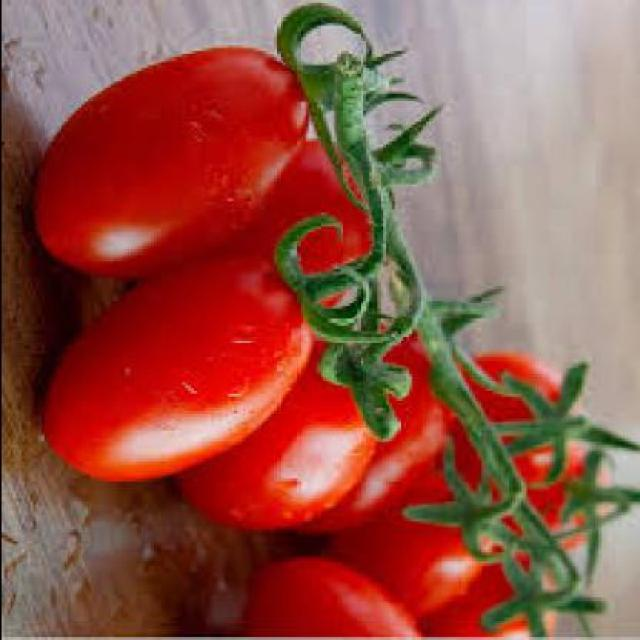BIODEGRADABLE: (35, 51, 313, 278), (35, 260, 310, 482), (192, 298, 388, 538), (132, 142, 385, 308), (290, 328, 450, 534), (336, 439, 490, 623), (441, 357, 574, 485), (243, 560, 423, 638), (508, 448, 620, 552), (426, 556, 560, 638)
